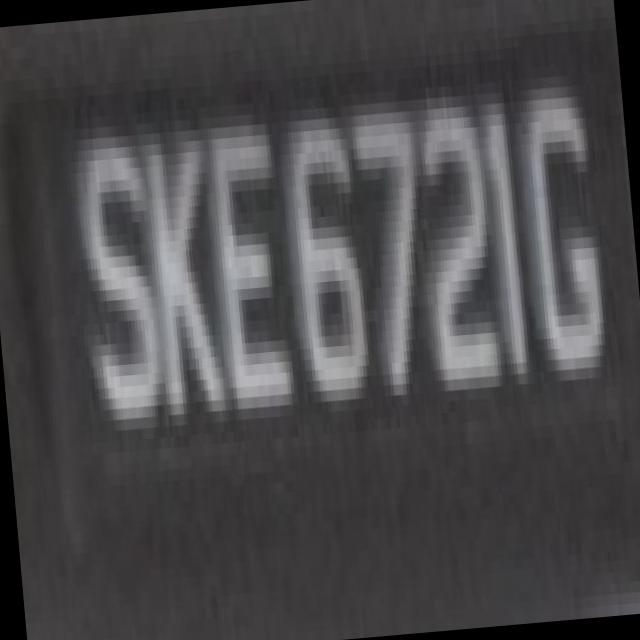2: (398, 61, 504, 382)
6: (265, 83, 372, 404)
7: (334, 78, 440, 388)
E: (194, 90, 295, 410)
G: (502, 51, 616, 372)
K: (128, 96, 228, 416)
S: (58, 101, 164, 422)
